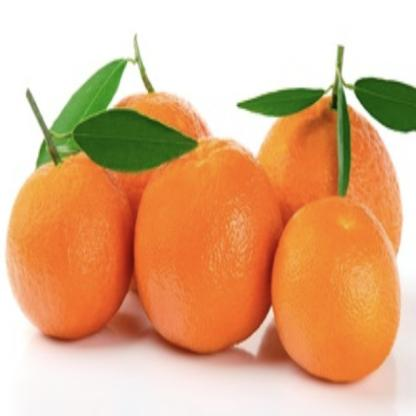fresh: (10, 68, 402, 385)
